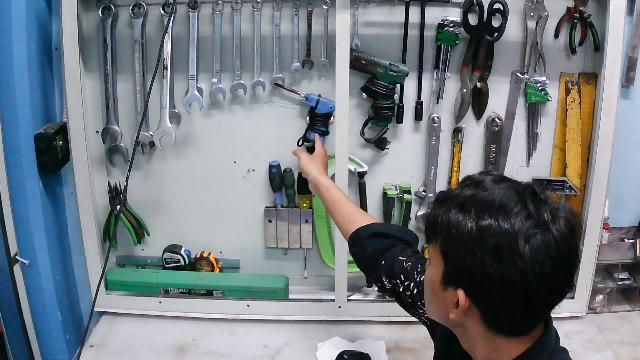solder_electrical: (275, 82, 335, 154)
